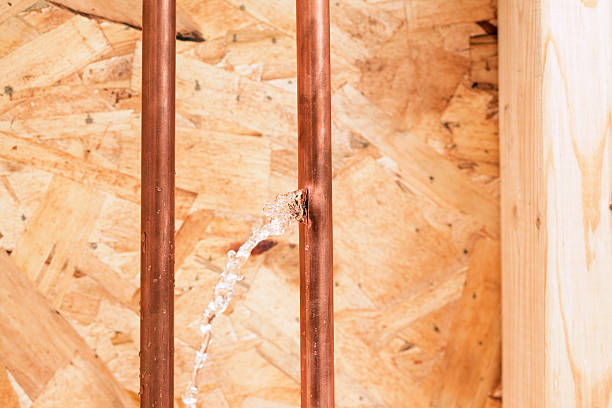rupture: (289, 184, 316, 234)
